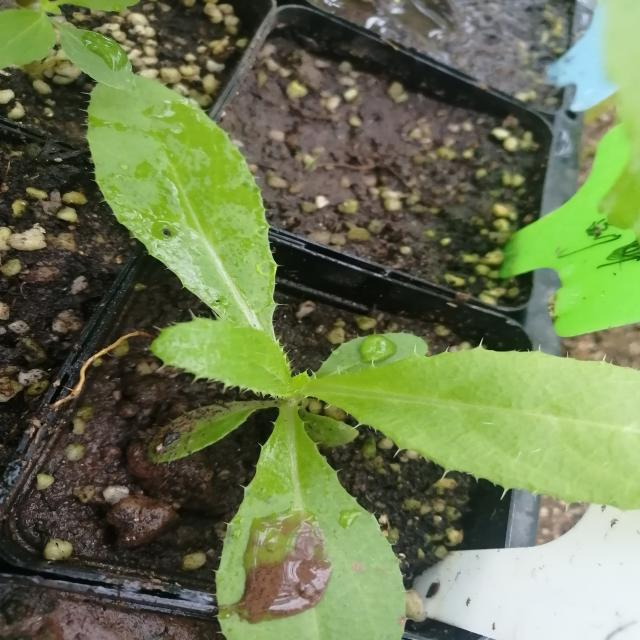field_thistle: (76, 69, 633, 618)
